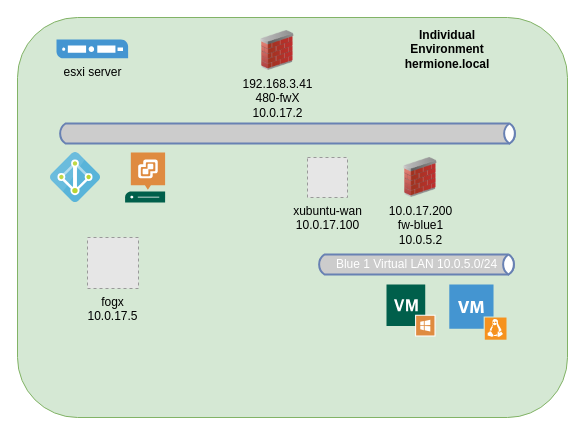
The diagram is 585 pixels wide and 435 high, and some of its shapes have lost their labels. Grey dashed boxes stand in for pictures. The shapes that lost their labels are listed below. From the top down, each one's centre as x and y in pixels, then its label:
the point at 287,133: Virtual WAN 10.0.17.0/24
the point at 75,177: dc480x 10.0.17.4
the point at 145,177: vcenter480x 10.0.17.3
